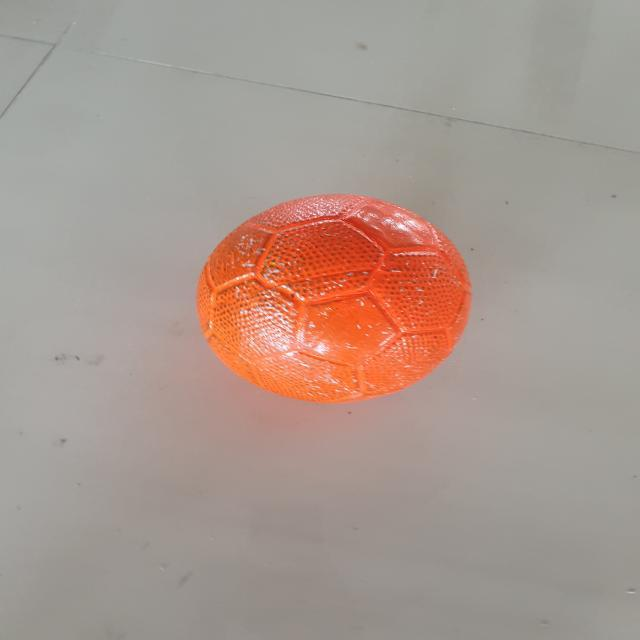bola: (194, 194, 472, 408)
